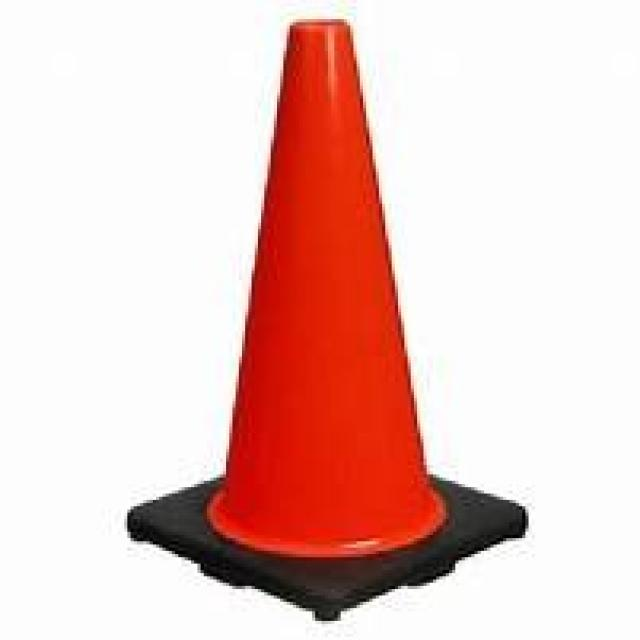traffic cone: (114, 9, 540, 630)
